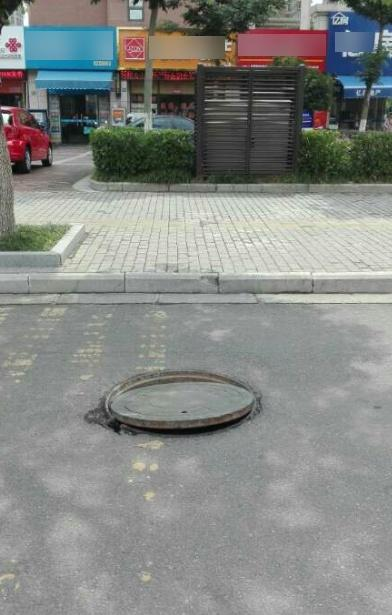wellcover: (94, 369, 271, 442)
